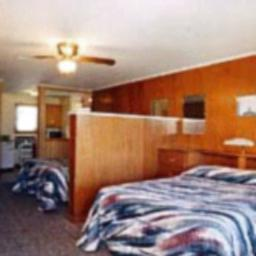Cama: (87, 169, 252, 248), (15, 159, 69, 208)
